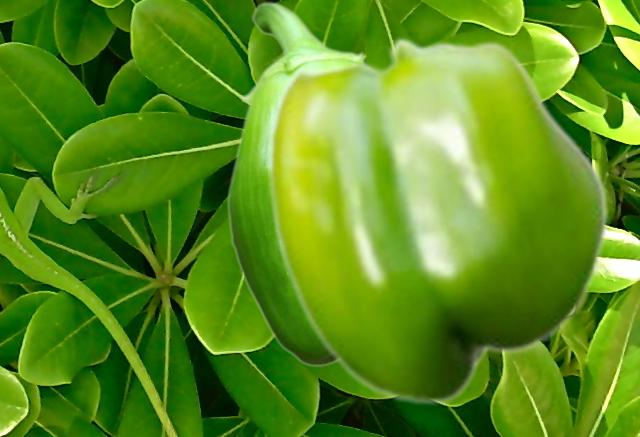bell_pepper: (268, 36, 608, 405), (226, 1, 367, 366)
